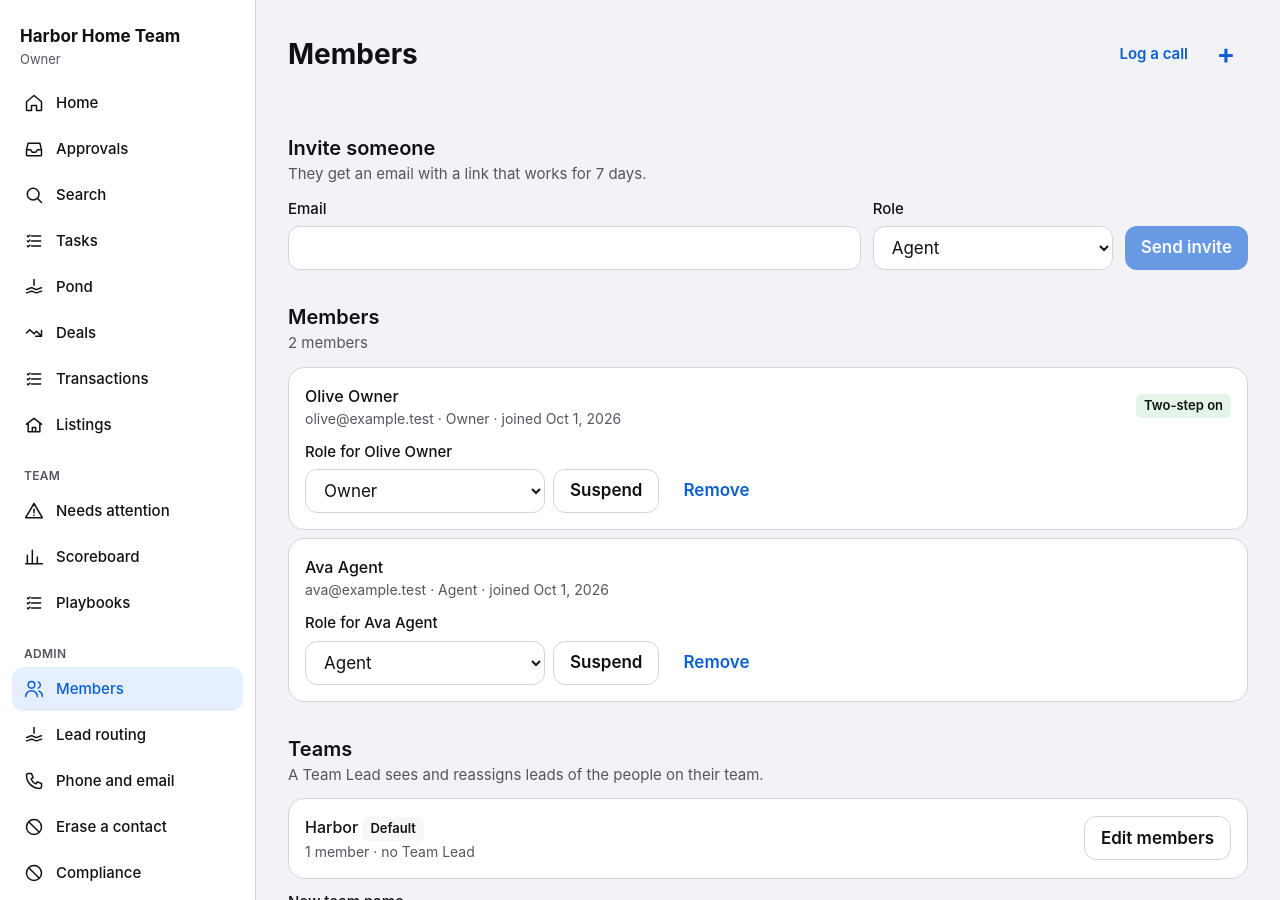
Test: Members › R-OWN-22 E540: the preview names the listings and their destination, the open deals that stay, and the open-deal leads going to the Team Lead
The image size is (1280, 900).
Click the button "Remove" below "Role for Ava Agent". click: (716, 662)
box: x1=668 y1=640 x2=766 y2=684
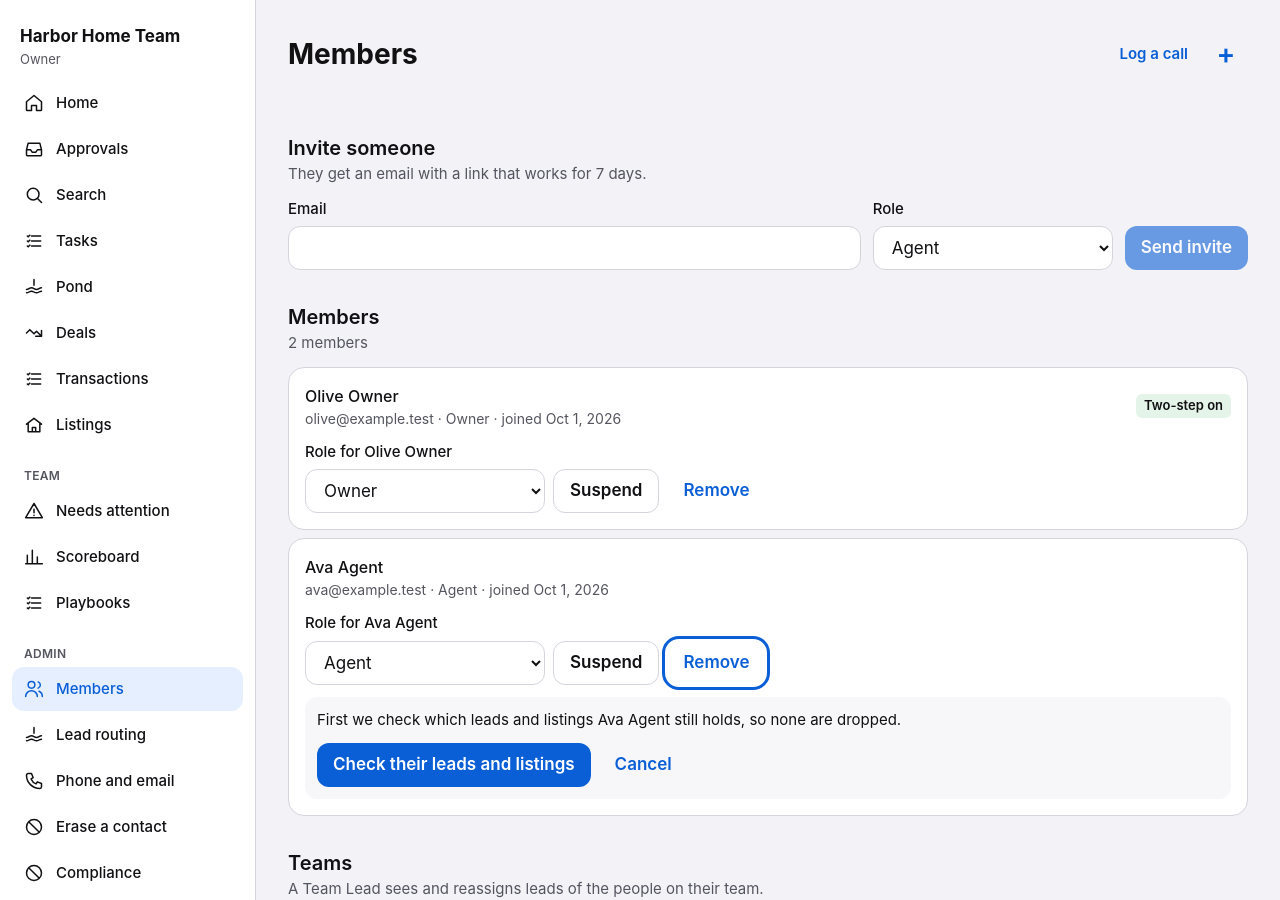
Click the button "Check their leads and listings". click: (454, 765)
box: x1=317 y1=743 x2=591 y2=787
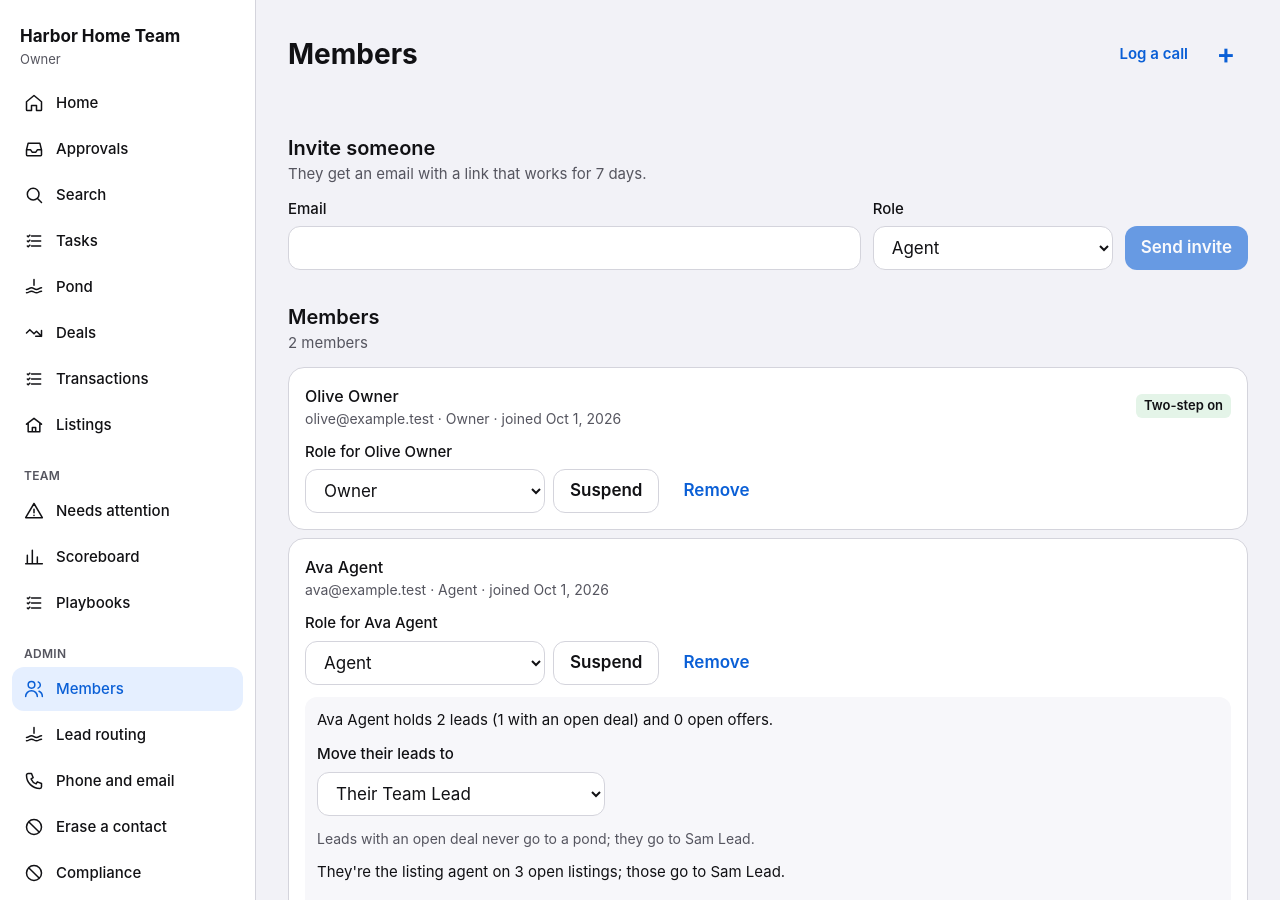
Check: the text "They're the listing agent on 3 open listings; those go to Sam Lead." is shown, box x1=317 y1=862 x2=785 y2=880
Check: the text "Leads with an open deal never go to a pond; they go to Sam Lead." is shown, box x1=317 y1=830 x2=755 y2=846
